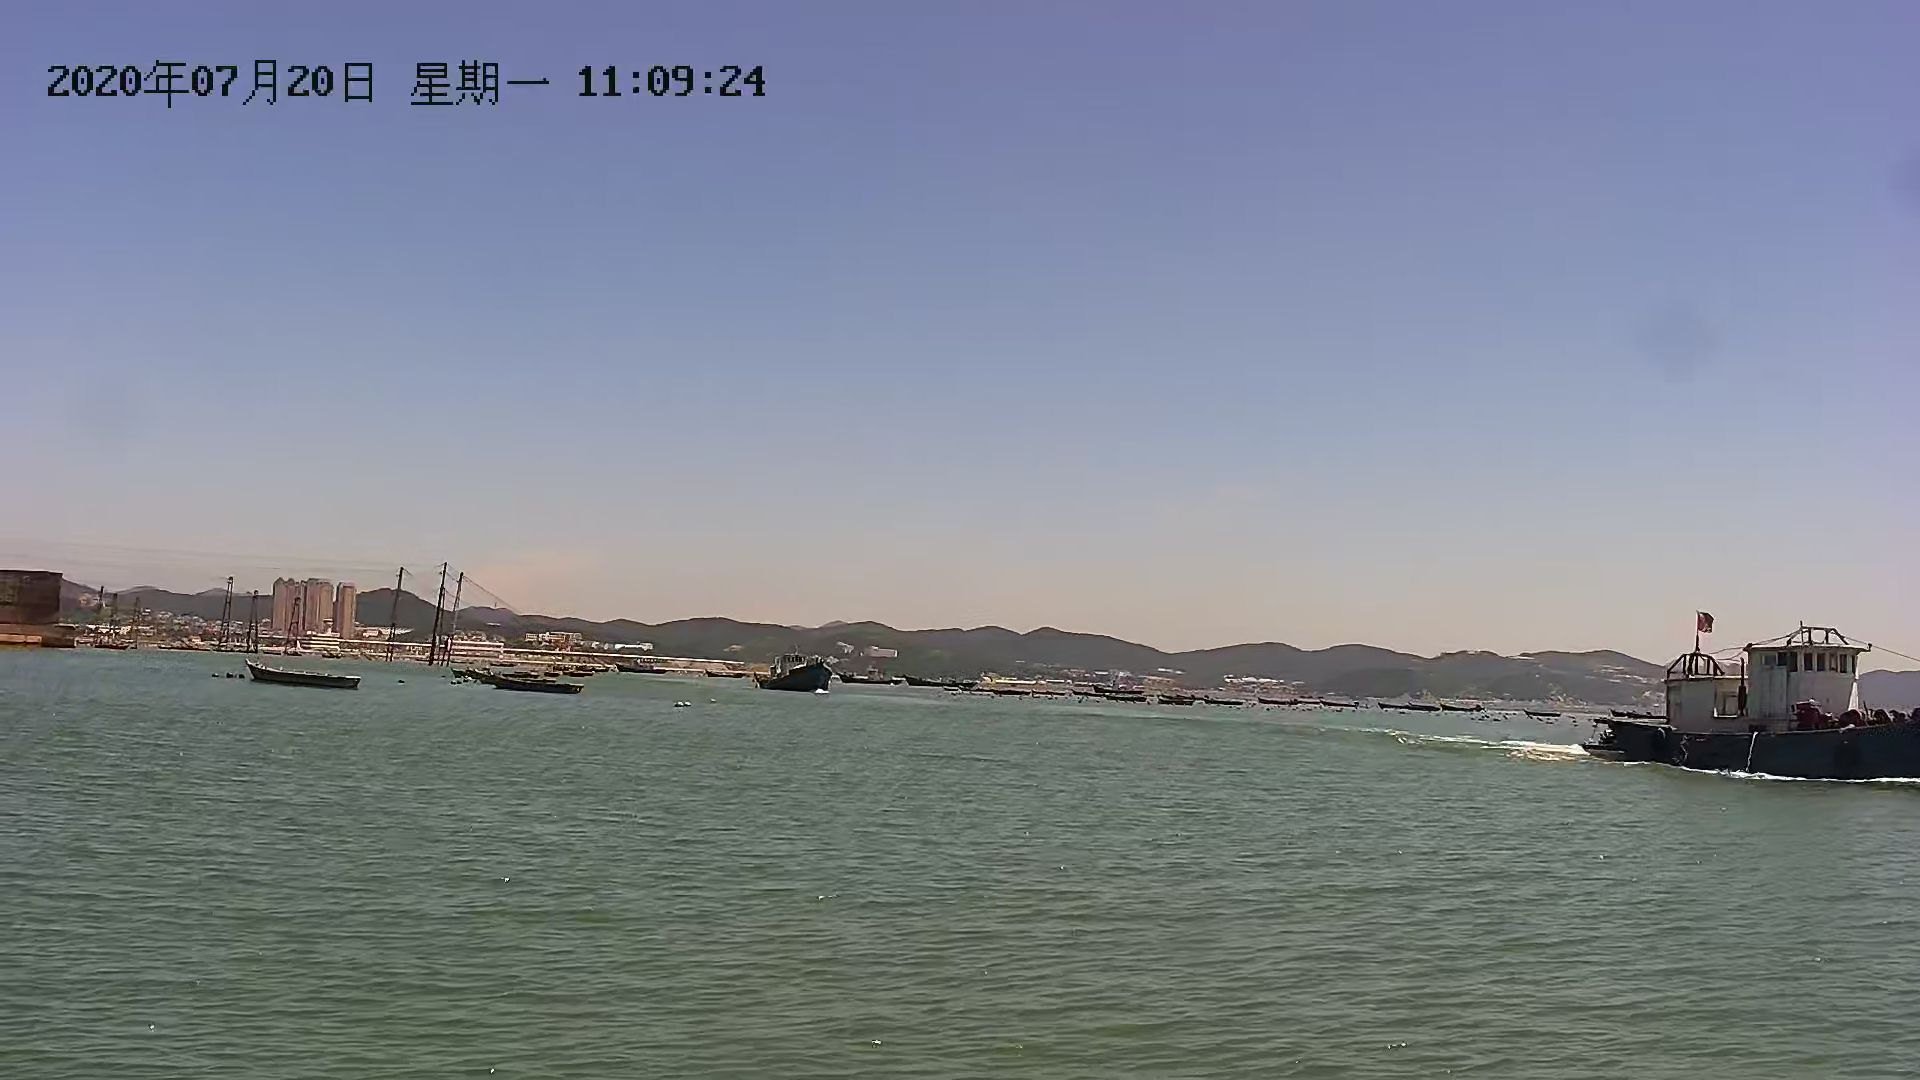boat: (233, 653, 363, 690), (465, 659, 580, 694)
ship: (1567, 612, 1920, 796), (762, 651, 840, 698)
